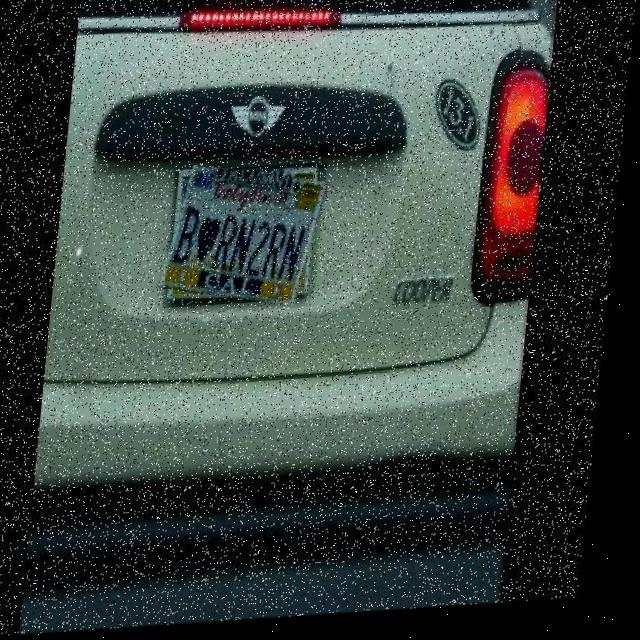LicensePlate: (169, 167, 331, 311)
